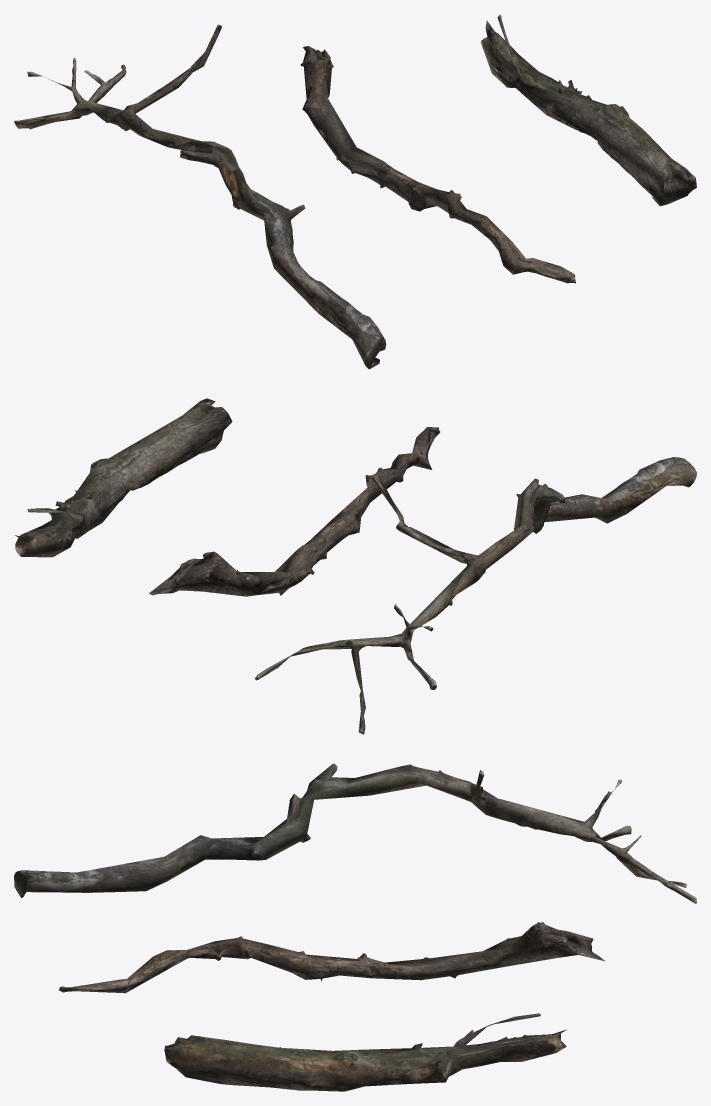
File: branches.glb
The picture shows the model from 3 angles, top to bottom: view 1: azimuth 30°, elevation 25°; view 2: azimuth 150°, elevation 25°; view 3: azimuth 270°, elevation 25°; orthographic projection. The views are drawn at different scales.
Parts seen in each view (by area): view 1: dry_branches_medium_01_a, dry_branches_medium_01_c, dry_branches_medium_01_b; view 2: dry_branches_medium_01_a, dry_branches_medium_01_c, dry_branches_medium_01_b; view 3: dry_branches_medium_01_a, dry_branches_medium_01_c, dry_branches_medium_01_b.
Boxes of the visible parts, box(x1,y1,x2,y2) form: dry_branches_medium_01_a: box(14, 24, 386, 369); dry_branches_medium_01_c: box(480, 14, 696, 206); dry_branches_medium_01_b: box(300, 46, 575, 283); dry_branches_medium_01_a: box(255, 457, 696, 734); dry_branches_medium_01_c: box(14, 398, 232, 557); dry_branches_medium_01_b: box(149, 427, 439, 596); dry_branches_medium_01_a: box(14, 763, 696, 903); dry_branches_medium_01_c: box(164, 1013, 566, 1091); dry_branches_medium_01_b: box(59, 922, 605, 993).
Size of the model in its own units: 1.06 by 0.34 by 1.3.
Materials: 1 (1 with a texture image).
